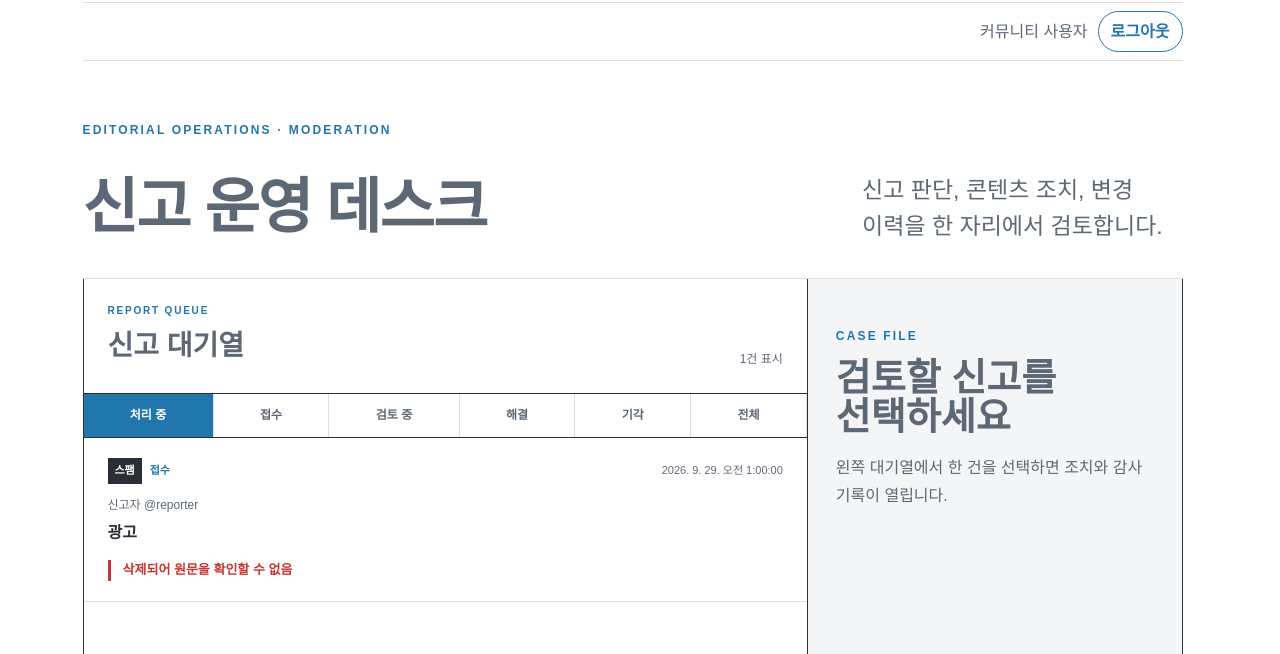
AdminReportsPage › removes a resolved report from the active queue using the authoritative response
The width and height of the screenshot is (1280, 654).
Click the button with aria-label "신고 삭제된 원문 선택" at {"x": 125, "y": 471}, box [84,438,807,601]
(page scrolled)
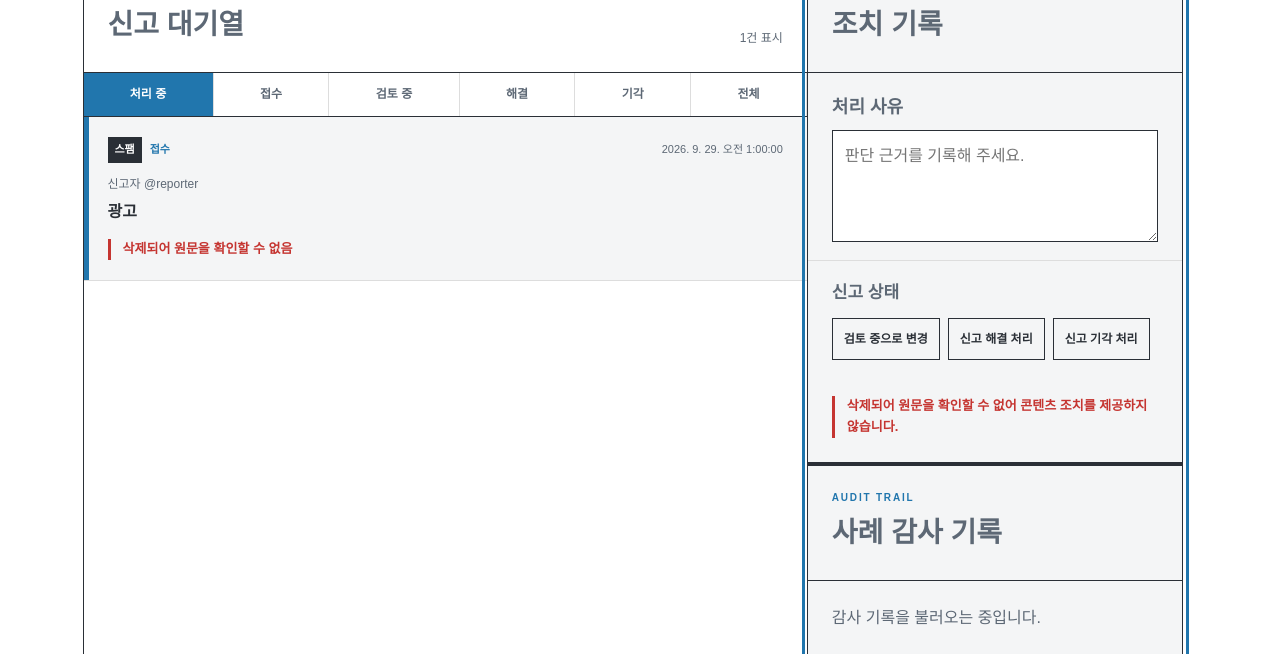
Type "검토 완료" into the text box labelled "처리 사유" at {"x": 995, "y": 186}, box [832,130,1158,242]
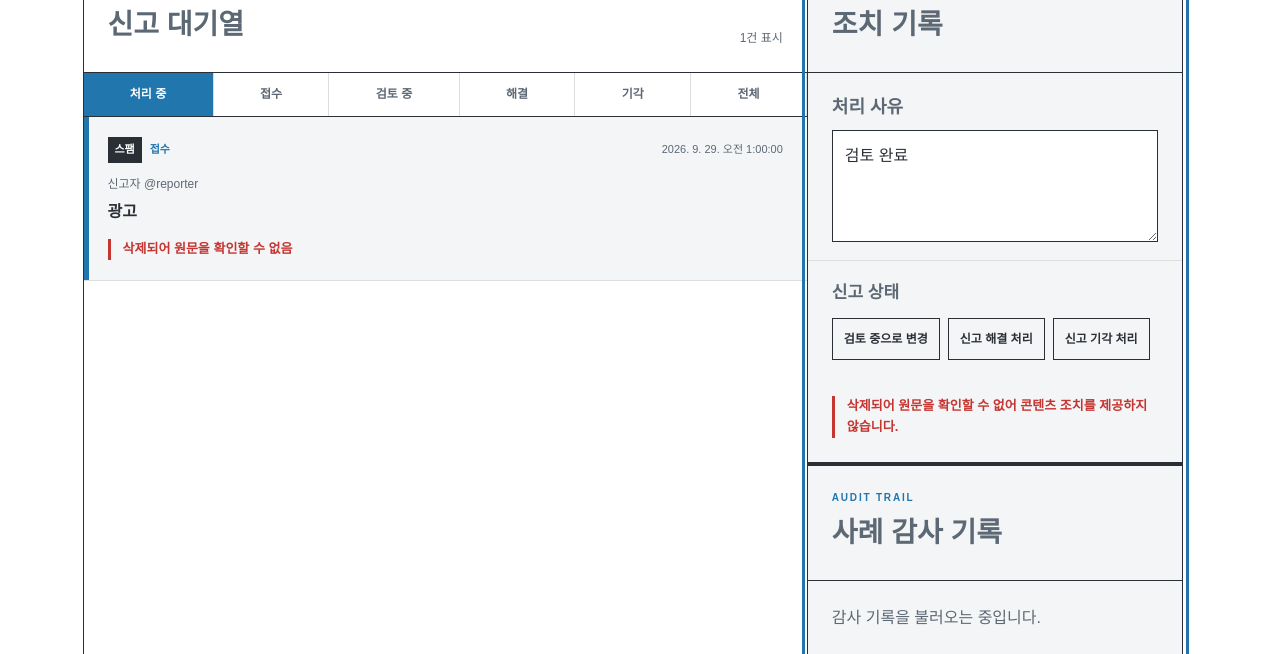
Click the button "신고 해결 처리" at {"x": 996, "y": 339}, box [948,318,1045,360]
(page scrolled)
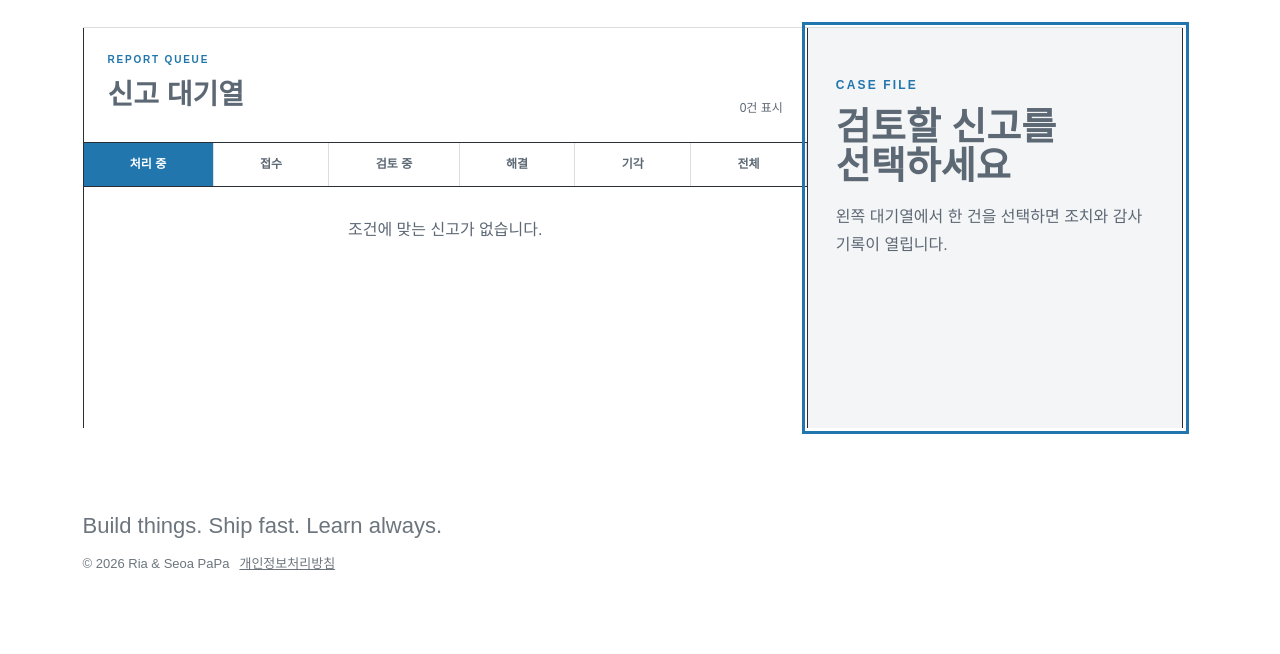
Expected: the text "조건에 맞는 신고가 없습니다." is shown, [348,221,542,238]
